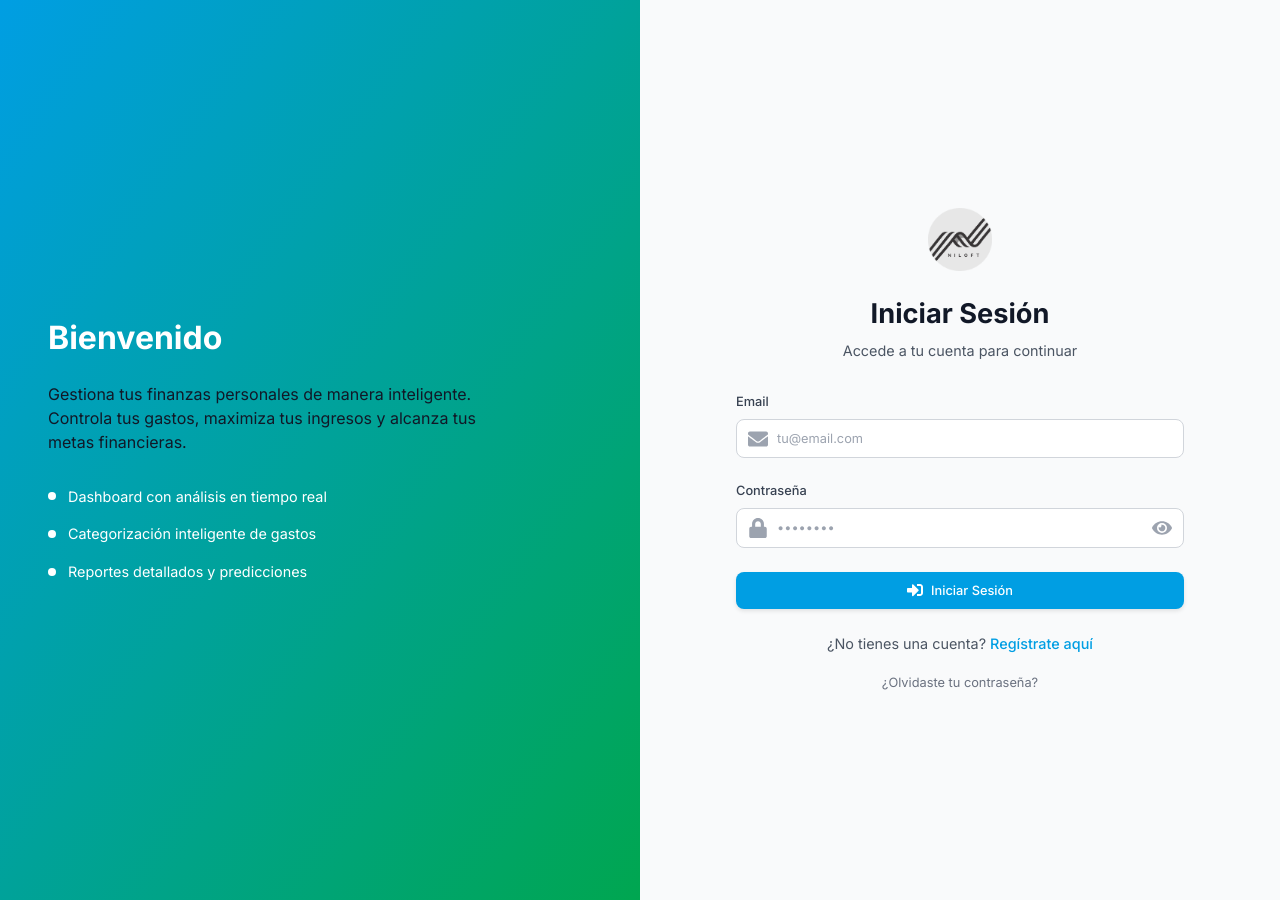
Test: Login — EMAIL_NOT_VERIFIED › shows error message when login throws EMAIL_NOT_VERIFIED
Type "user@example.com" into the field labelled "Email" at (960, 439), box left=736, top=419, right=1184, bottom=458
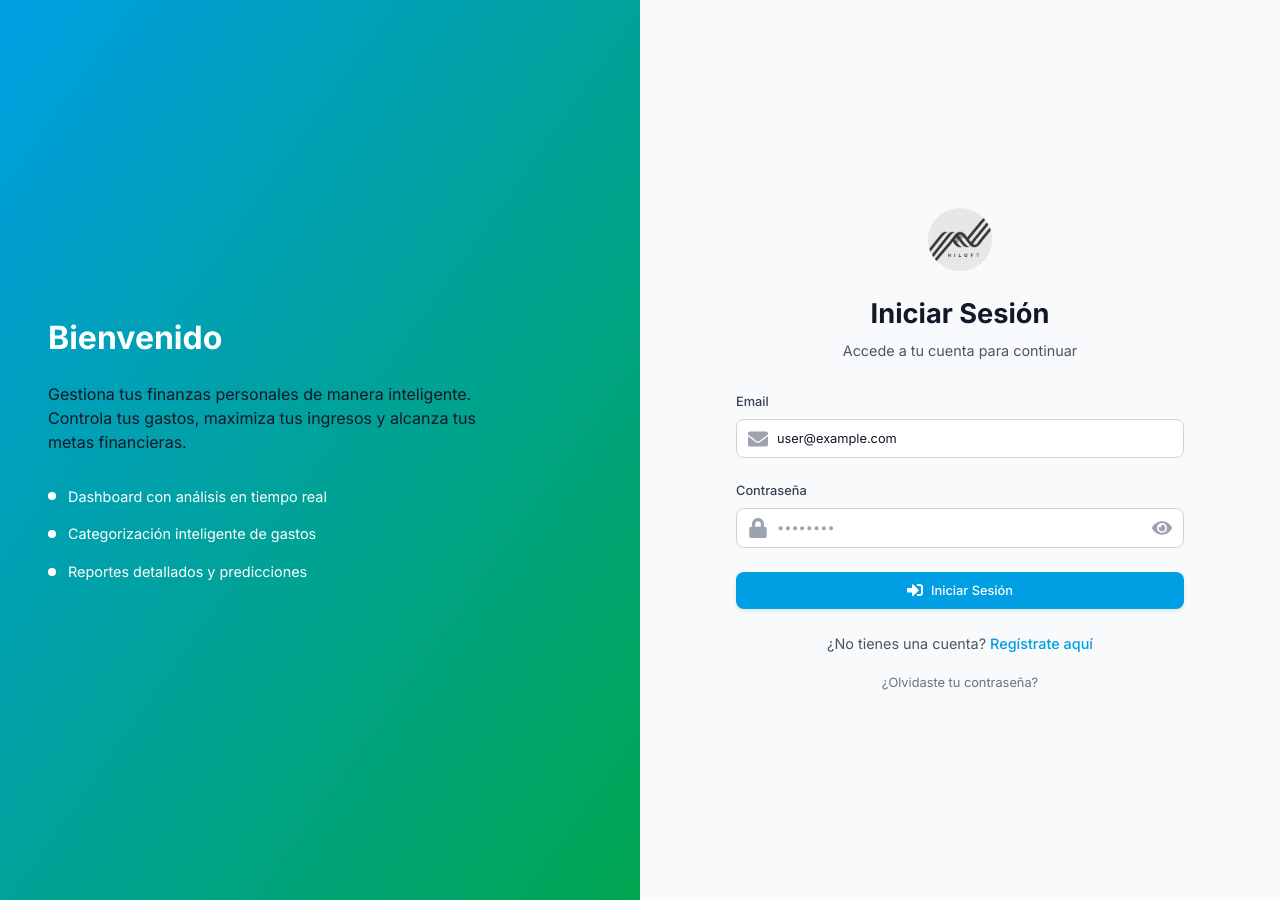
Type "password123" into the password field labelled "Contraseña" at (960, 528), box left=736, top=508, right=1184, bottom=548
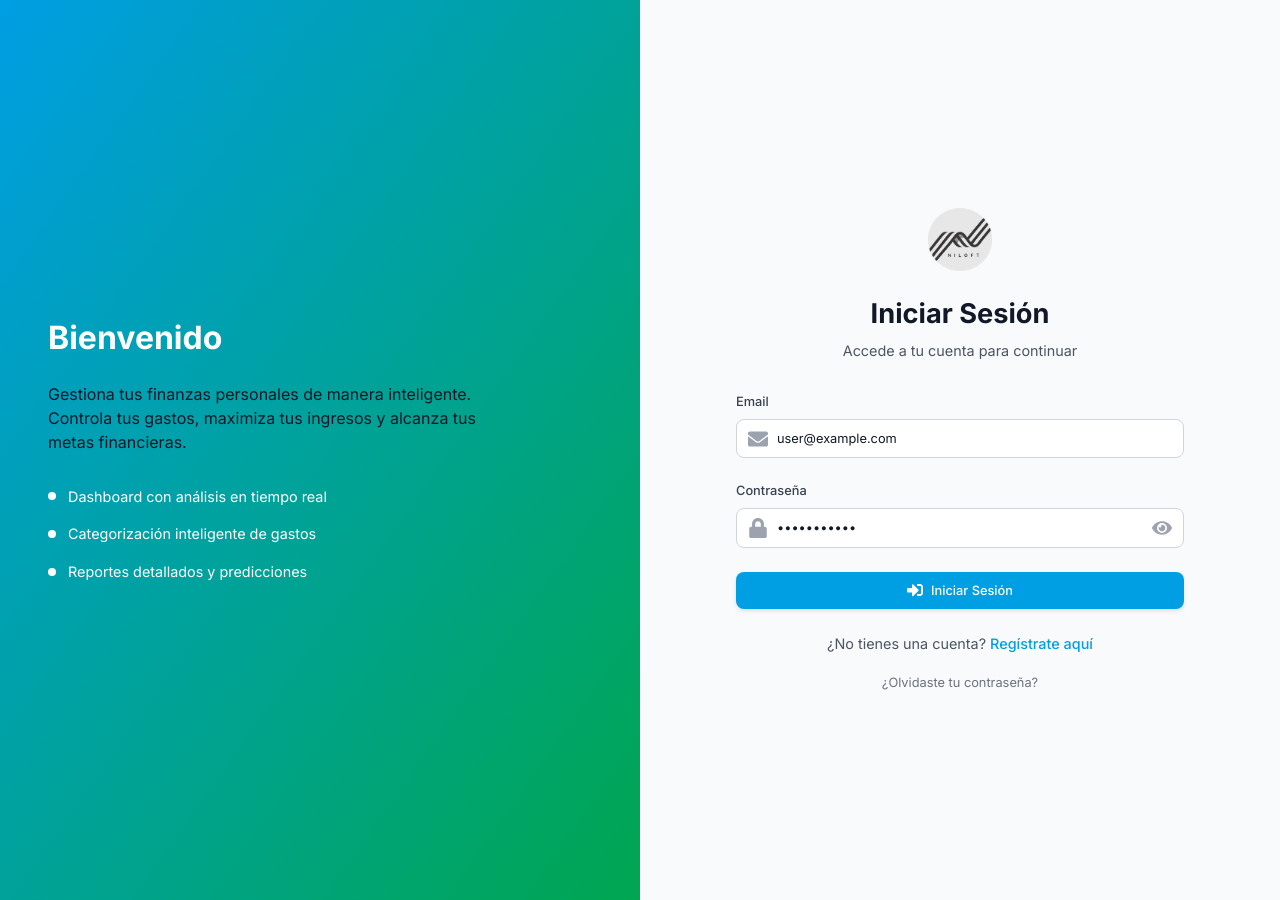
Click the button "Iniciar Sesión" at (960, 590), box left=736, top=572, right=1184, bottom=609
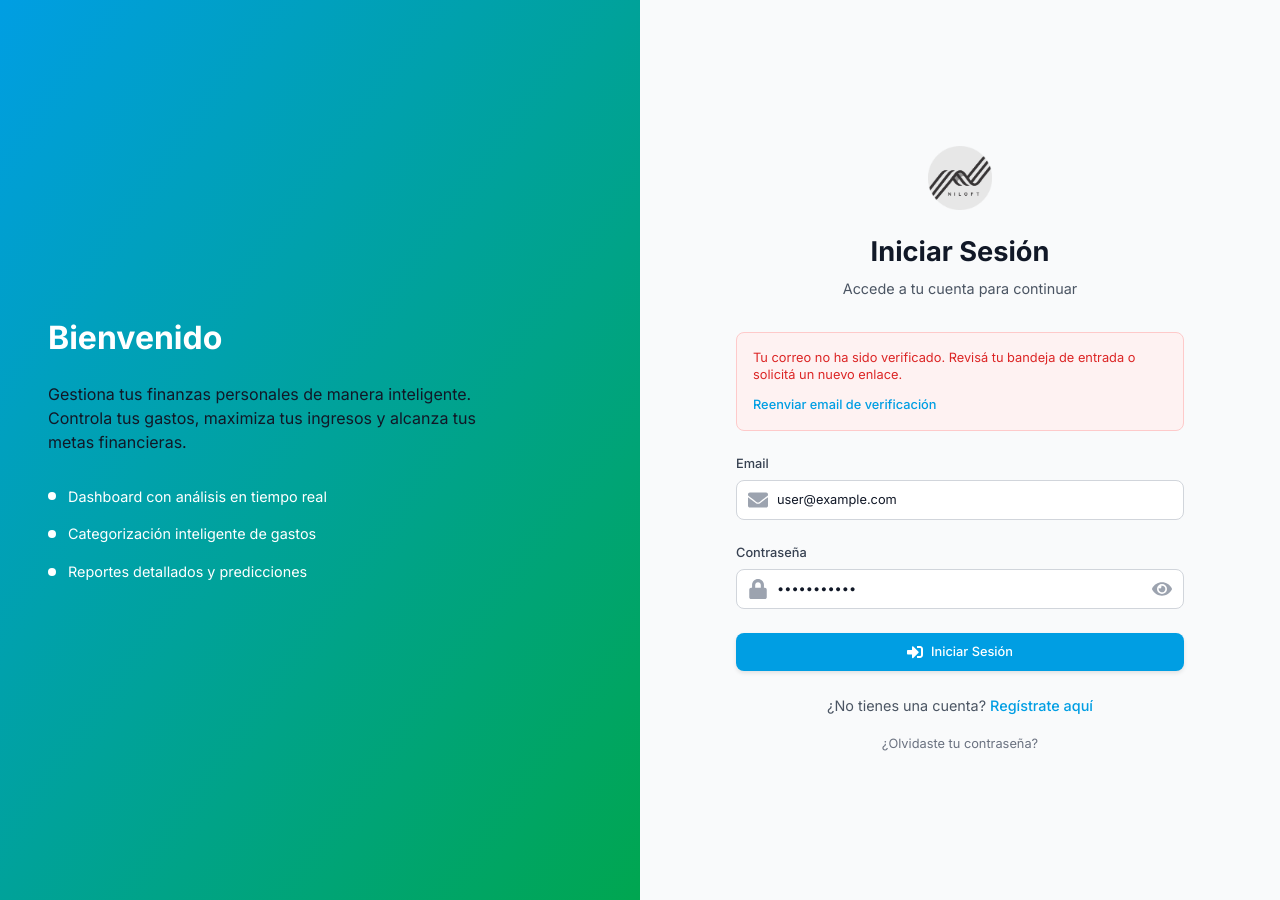
Now the text "Tu correo no ha sido verificado" is shown, box left=753, top=350, right=1135, bottom=382
